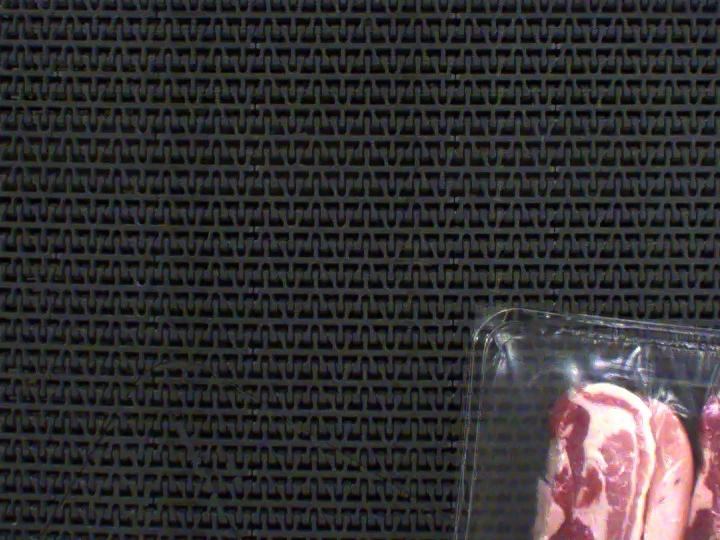unsealed: (475, 308, 720, 540)
